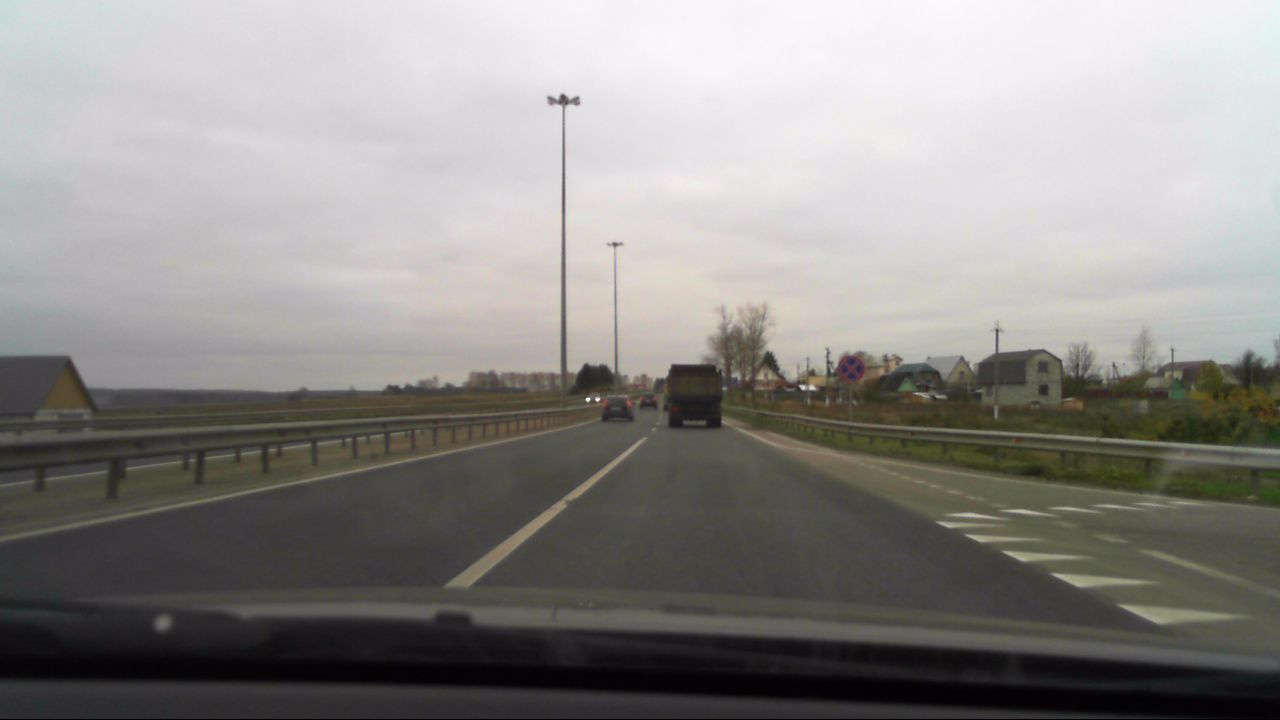No Parking: (835, 353, 867, 385)
